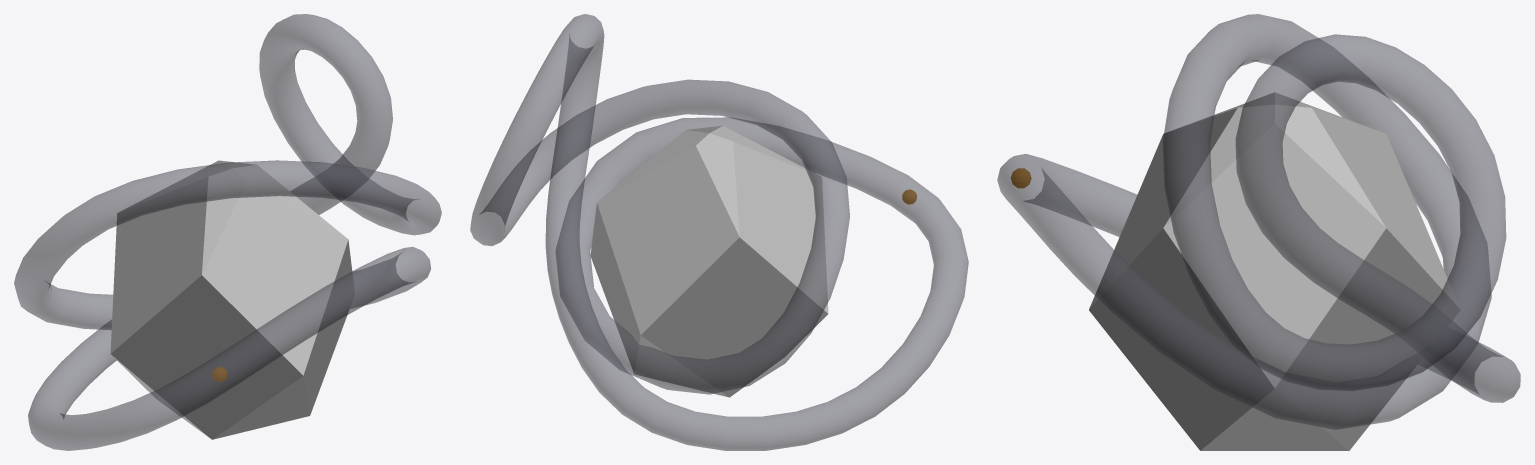
Rendered from core_art.glb.
3 renders of one model, left to right at view 1: azimuth 30°, elevation 25°; view 2: azimuth 150°, elevation 25°; view 3: azimuth 270°, elevation 25°, orthographic. The views are drawn at different scales.
Visible parts, largest first — view 1: Tube, Geometric; view 2: Tube, Geometric; view 3: Tube, Geometric.
Part boxes in pixels (x1,y1,x2,y2): Tube: (14,14,441,450); Geometric: (110,160,354,439); Tube: (470,14,968,450); Geometric: (590,125,828,397); Tube: (997,14,1520,429); Geometric: (1089,92,1460,450).
Size of the model in its own units: 10.96 by 9.41 by 9.25.
3 materials, 3 textured.
